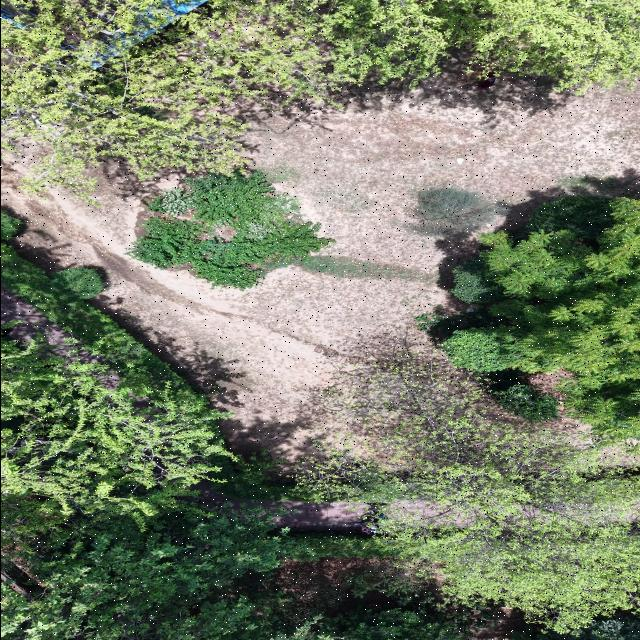DRY_AREA: (1, 72, 639, 459), (4, 163, 368, 458), (271, 558, 438, 624), (271, 558, 432, 623), (186, 483, 365, 535), (186, 482, 371, 532), (187, 482, 368, 532), (185, 482, 366, 532), (187, 482, 367, 532), (1, 287, 108, 364), (1, 287, 71, 357), (382, 500, 478, 529), (381, 500, 474, 528), (472, 608, 528, 639), (473, 608, 528, 639)
VEGETATION_TREE: (1, 245, 639, 639), (1, 245, 488, 639), (1, 245, 470, 639), (1, 341, 488, 639), (1, 341, 471, 639), (1, 0, 639, 197), (1, 247, 281, 639), (302, 352, 639, 632), (3, 0, 455, 193), (1, 340, 280, 639), (1, 244, 305, 501), (1, 503, 475, 639), (1, 244, 229, 515), (427, 197, 639, 438), (1, 0, 261, 195), (1, 340, 230, 521), (1, 498, 280, 639), (127, 172, 333, 289), (247, 559, 494, 639), (457, 0, 639, 91), (150, 173, 297, 228), (316, 604, 472, 639), (411, 188, 507, 236), (473, 370, 558, 424), (527, 196, 614, 239), (280, 531, 393, 561), (443, 326, 515, 372), (513, 613, 639, 639), (415, 309, 502, 343), (496, 385, 558, 422), (452, 260, 503, 302), (53, 267, 105, 299), (1, 211, 23, 239)
